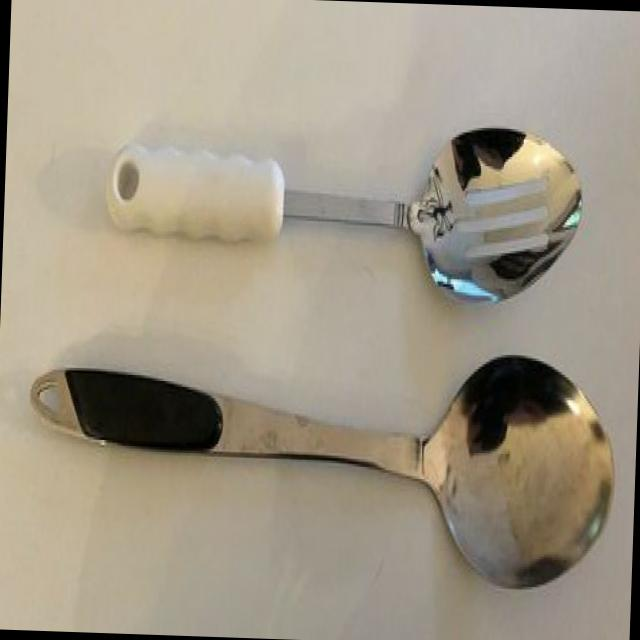spoon: (12, 322, 626, 610)
